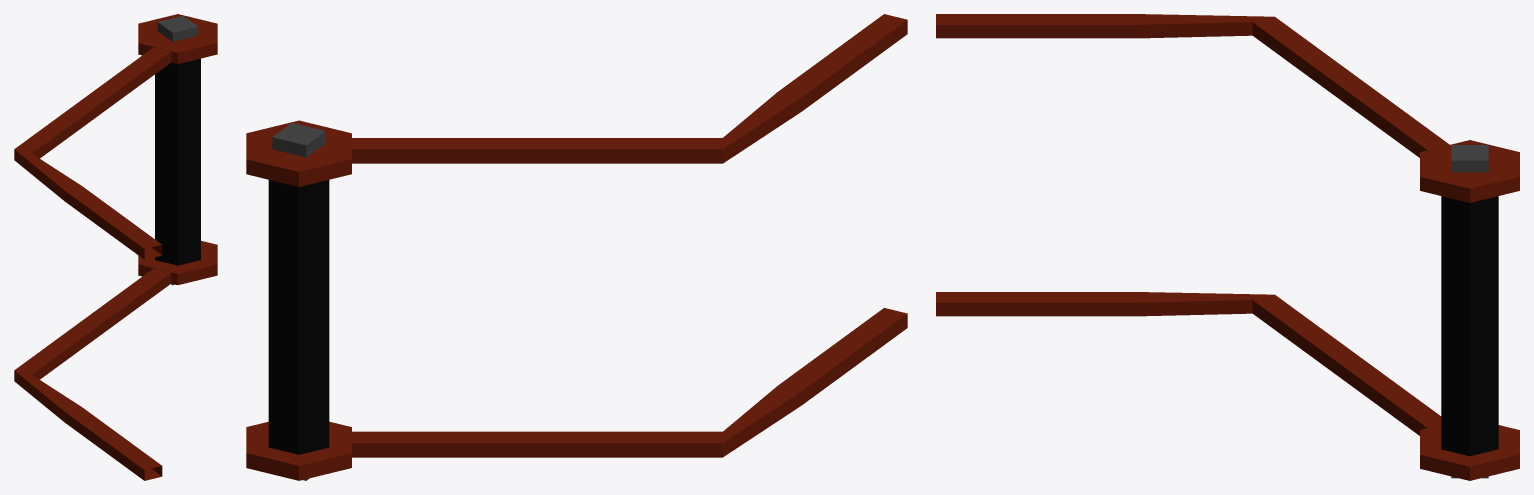
File: 2liftMech.fbx
The picture shows the model from 3 angles, left to right: view 1: azimuth 30°, elevation 25°; view 2: azimuth 150°, elevation 25°; view 3: azimuth 270°, elevation 25°; orthographic projection. The views are drawn at different scales.
Parts seen in each view (by area): view 1: Cube.002; view 2: Cube.002; view 3: Cube.002.
Boxes of the visible parts, left/top/right/bottom form: Cube.002: left=14, top=14, right=217, bottom=480; Cube.002: left=246, top=14, right=907, bottom=480; Cube.002: left=936, top=14, right=1519, bottom=480.
Size of the model in its own units: 7.17 by 6.06 by 10.11.
